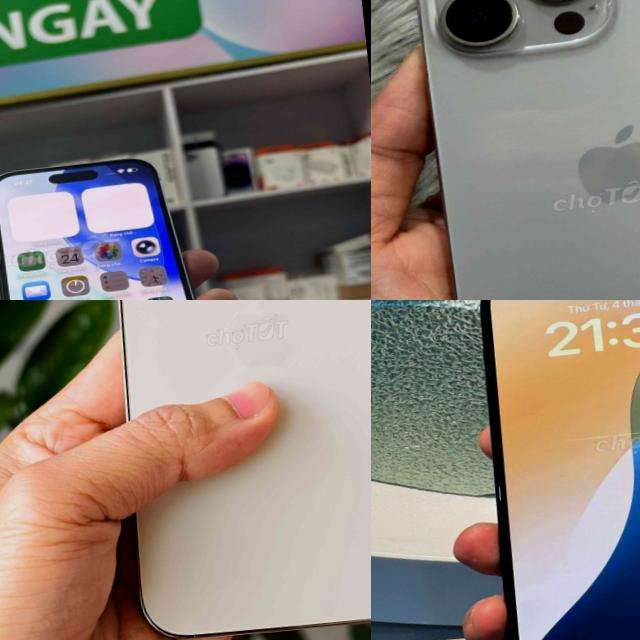gen_14: (70, 300, 371, 640)
gen_15: (392, 0, 640, 300), (453, 300, 640, 640), (0, 140, 231, 300)
